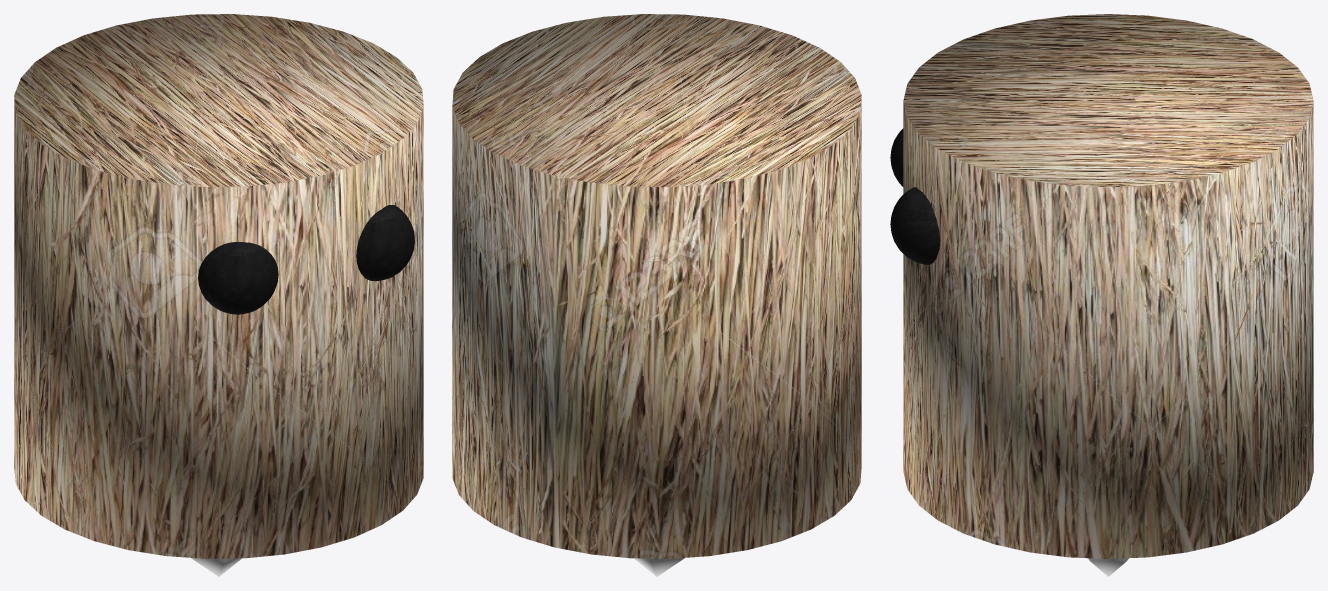
The model's file is PracticeModel.fbx.
3 renders of one model, left to right at view 1: azimuth 30°, elevation 25°; view 2: azimuth 150°, elevation 25°; view 3: azimuth 270°, elevation 25°, orthographic.
Parts seen in each view (by area): view 1: 円柱, 球, 球.001; view 2: 円柱; view 3: 円柱, 球.001, 球.
Part boxes in pixels (x1,y1,x2,y2): 円柱: (14,14,423,558); 球: (198,242,278,314); 球.001: (356,205,414,281); 円柱: (452,14,861,558); 円柱: (903,14,1313,558); 球.001: (890,187,940,264); 球: (890,128,903,186).
Size of the model in its own units: 2 by 2.56 by 2.06.
Materials: 3 (3 with a texture image).
